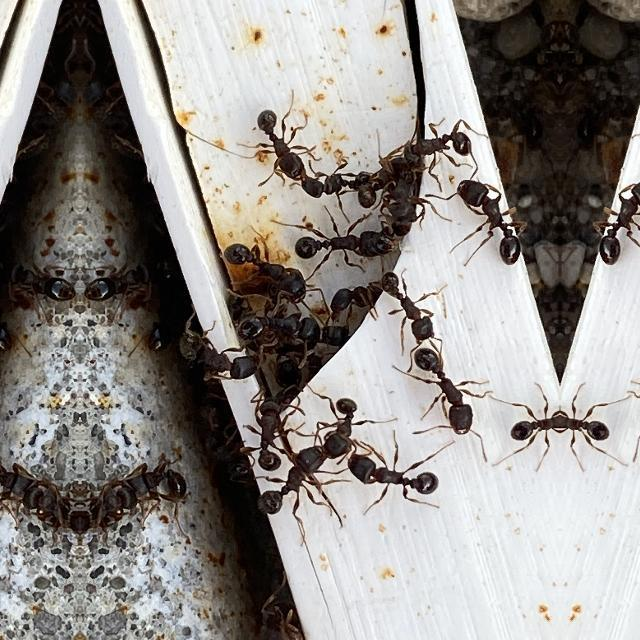Tetramorium: (447, 168, 545, 270), (400, 351, 494, 444), (278, 208, 400, 270), (254, 430, 324, 526), (244, 104, 322, 190), (574, 168, 640, 268), (346, 446, 448, 510), (381, 270, 447, 360), (122, 445, 198, 521), (180, 322, 258, 386), (224, 237, 316, 291), (232, 302, 330, 350), (80, 258, 174, 304), (408, 119, 488, 167), (254, 394, 300, 476), (0, 258, 80, 304), (505, 381, 559, 449), (561, 381, 615, 449), (330, 265, 394, 317), (358, 148, 412, 206), (0, 445, 36, 521), (328, 388, 366, 458), (295, 164, 355, 196)
